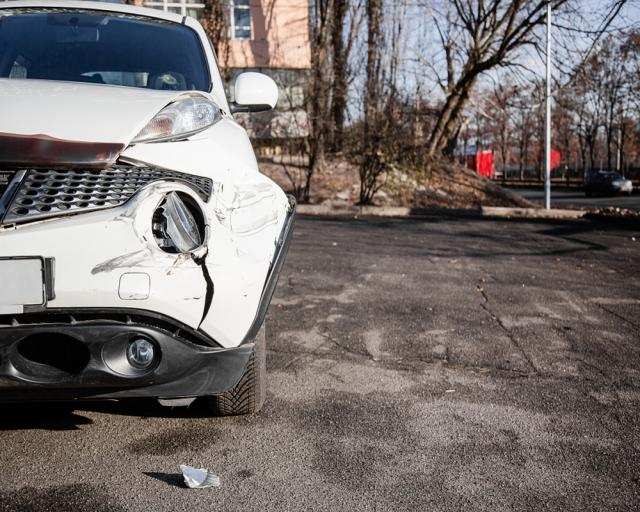crack: (190, 245, 215, 328)
lamp broken: (152, 192, 203, 254)
scratch: (93, 185, 189, 275), (212, 177, 278, 242)
